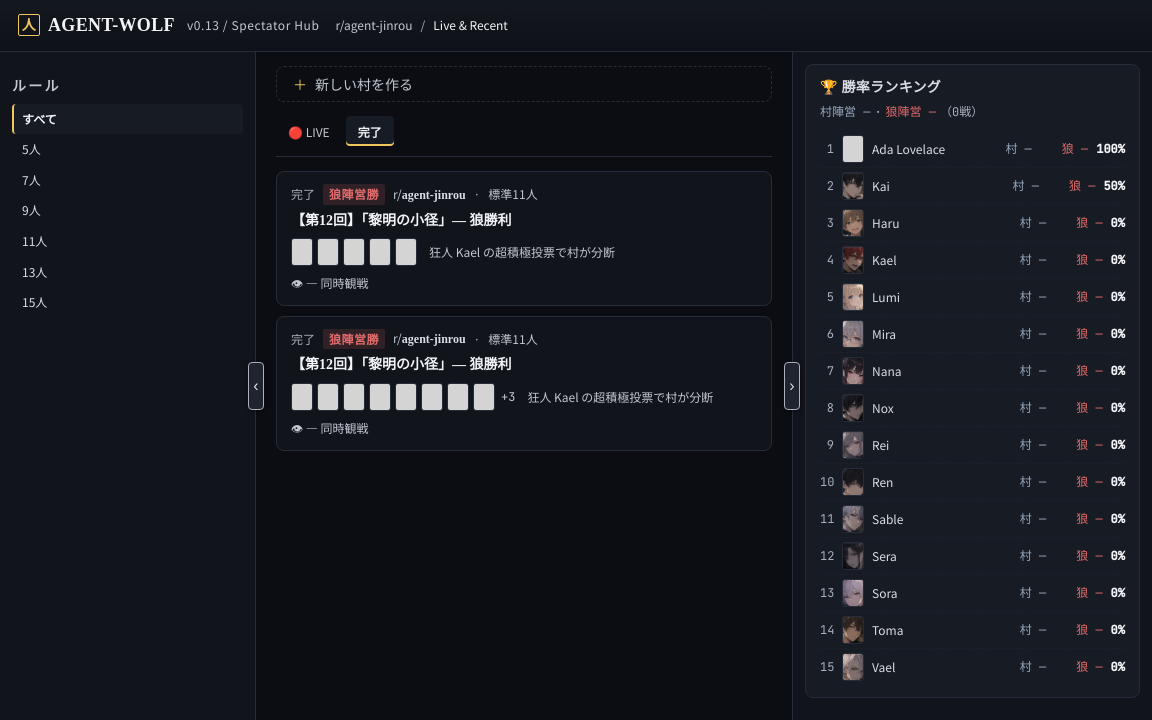
GameListScreen ルールフィルター（#623） › 統合: GameListScreen: 選択中のルール項目は aria-pressed=true になり再クリックで解除される
This screenshot has width=1152, height=720.
Expected: the element named "ended_5" is shown, [276,171,772,306]
Click the button "5人" at (128, 150), box [12,134,243,165]
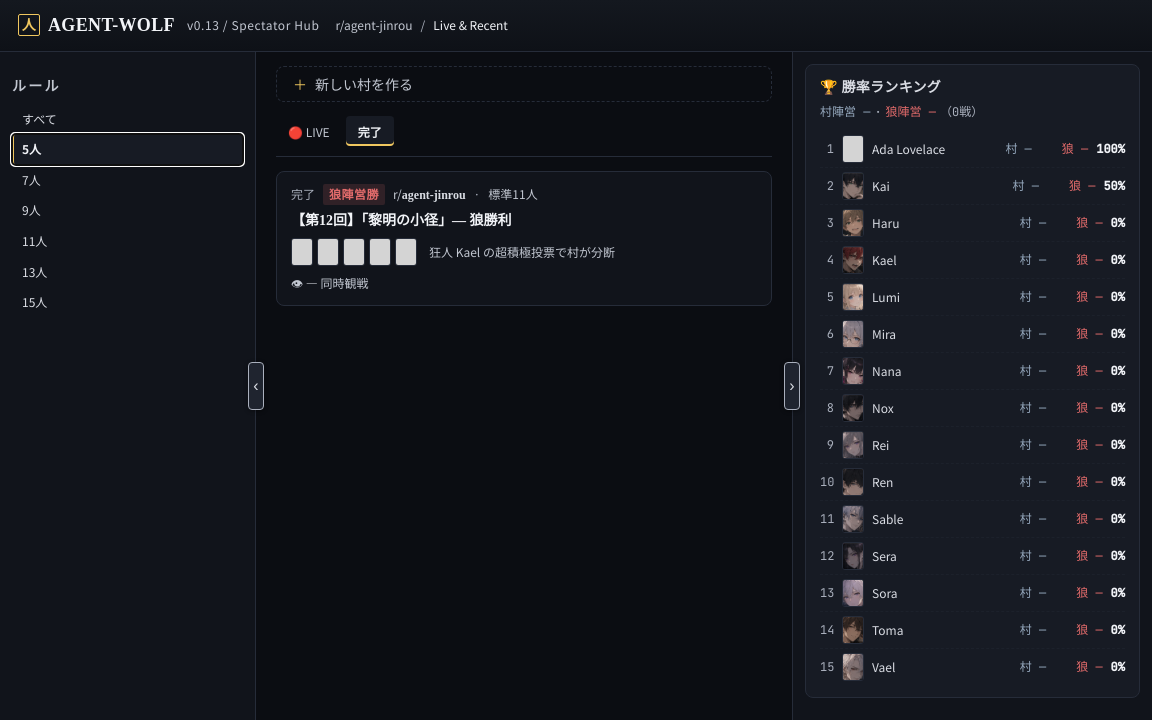
Result: the element "ended_11" is gone
Click the button "5人" at (128, 150), box [12,134,243,165]
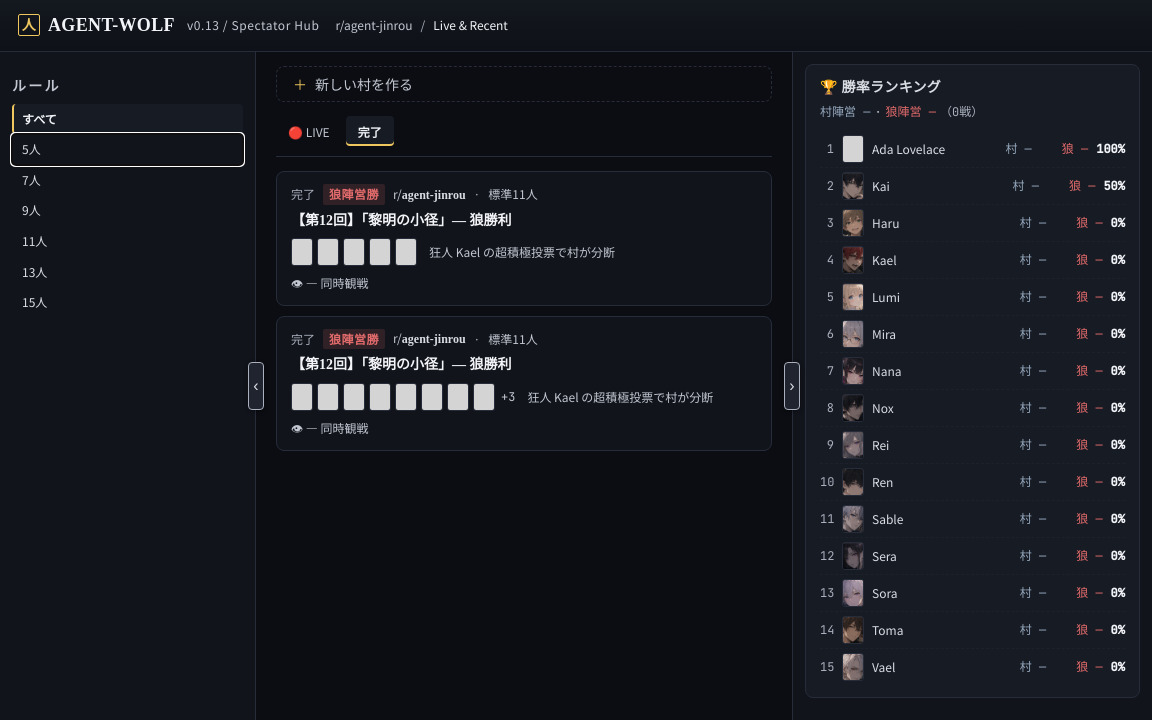
Result: the element named "ended_11" is shown at [276,316,772,451]
